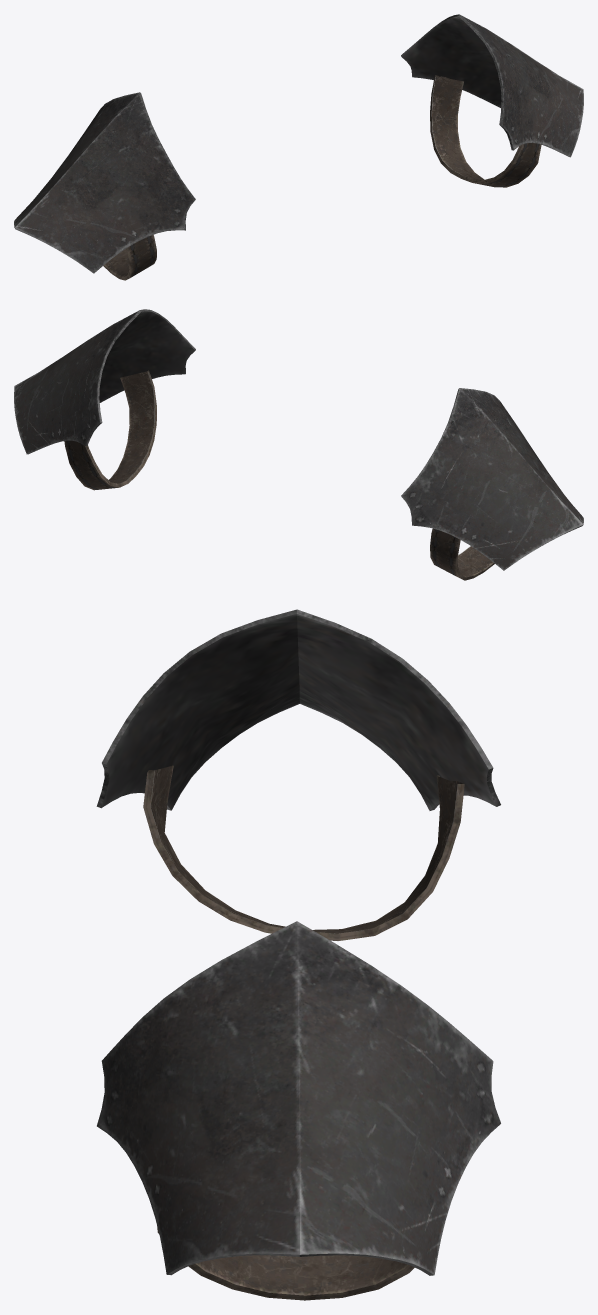
The model's file is sk_uruk_mordor_pauldron_medium_d.fbx.
The picture shows the model from 3 angles, top to bottom: view 1: azimuth 30°, elevation 25°; view 2: azimuth 150°, elevation 25°; view 3: azimuth 270°, elevation 25°; orthographic projection. The views are drawn at different scales.
Parts seen in each view (by area): view 1: sk_uruk_mordor_pauldron_medium_d.1, sk_uruk_mordor_pauldron_medium_d.0; view 2: sk_uruk_mordor_pauldron_medium_d.1, sk_uruk_mordor_pauldron_medium_d.0; view 3: sk_uruk_mordor_pauldron_medium_d.1, sk_uruk_mordor_pauldron_medium_d.0.
Boxes of the visible parts, x1,y1,x2,y2 form: sk_uruk_mordor_pauldron_medium_d.1: [14, 14, 583, 273]; sk_uruk_mordor_pauldron_medium_d.0: [103, 75, 541, 280]; sk_uruk_mordor_pauldron_medium_d.1: [14, 309, 583, 570]; sk_uruk_mordor_pauldron_medium_d.0: [64, 370, 494, 580]; sk_uruk_mordor_pauldron_medium_d.1: [96, 609, 500, 1275]; sk_uruk_mordor_pauldron_medium_d.0: [143, 765, 464, 1300].
Bounding box in the file's own units: 0.8779 × 0.2703 × 0.2607.
Materials: 2 (2 with a texture image).
